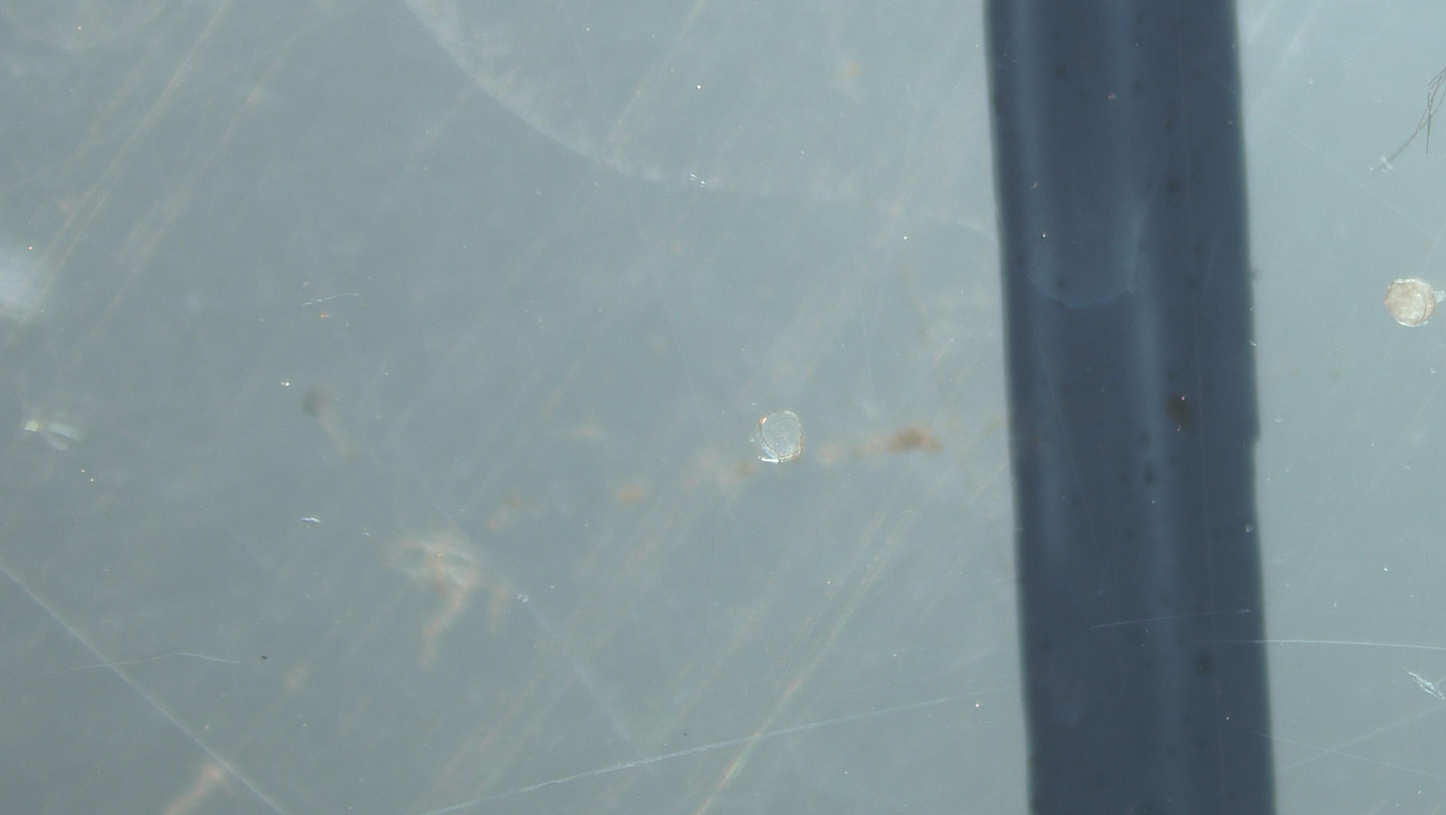dead: (754, 411, 805, 464), (1385, 279, 1437, 327)
